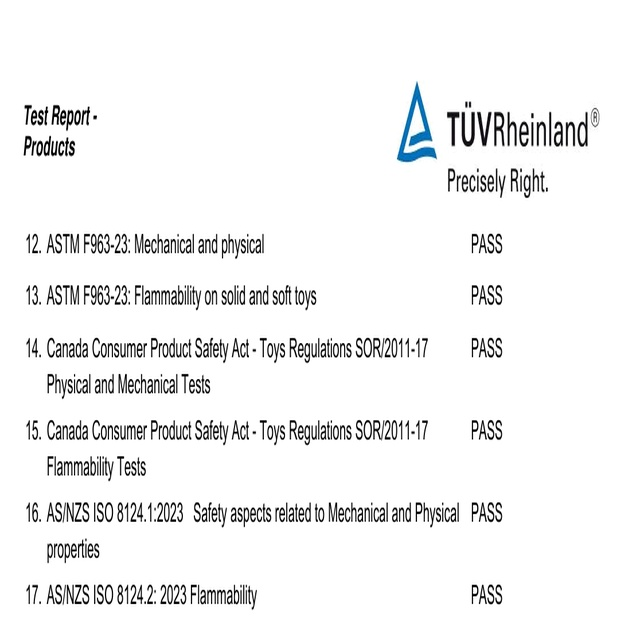tuv_rheinland: (394, 77, 602, 167)
